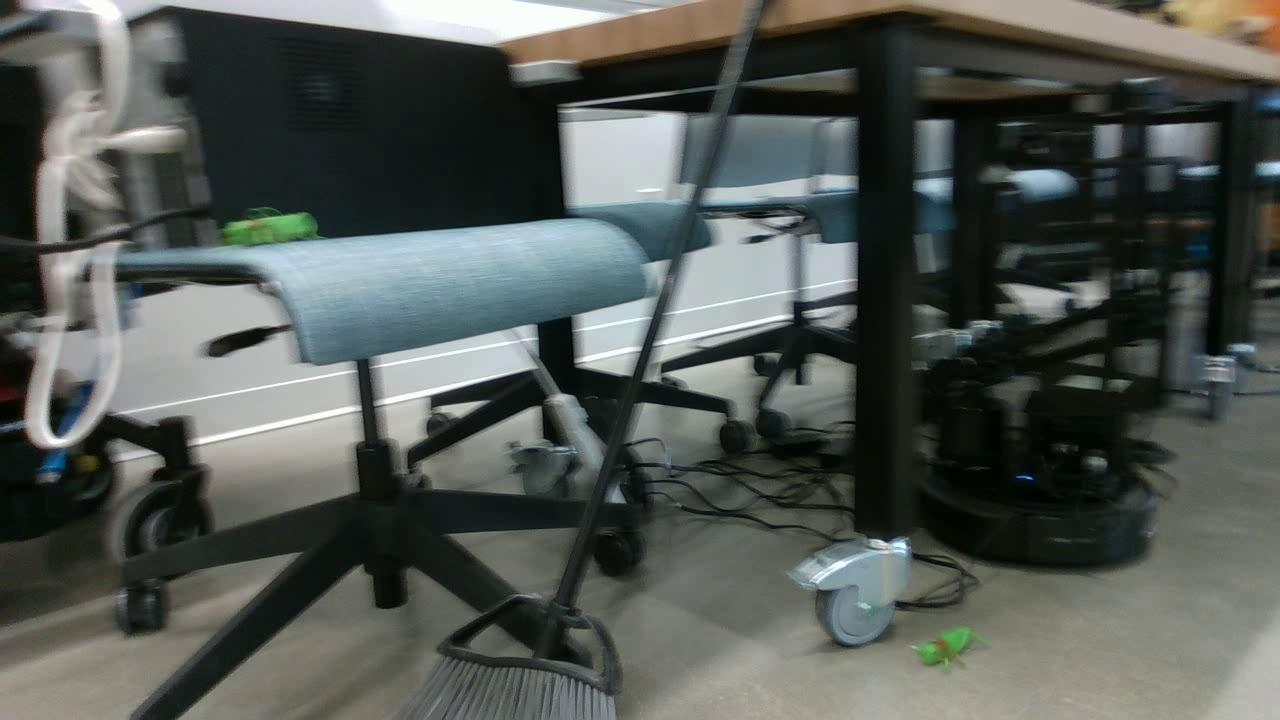grasshopper: (911, 622, 978, 677), (222, 214, 323, 244)
